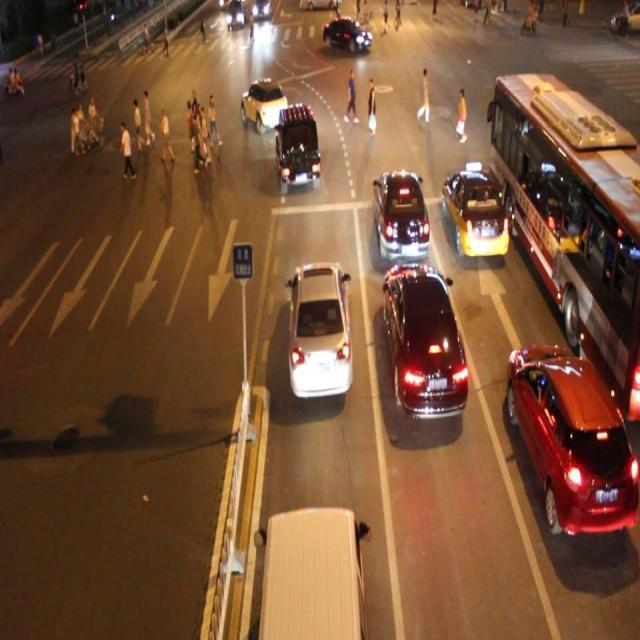car: (505, 341, 640, 531), (380, 262, 467, 415), (289, 260, 352, 395), (441, 170, 508, 260), (372, 167, 429, 264), (276, 104, 320, 192), (240, 78, 287, 134), (322, 15, 371, 55)
truck: (257, 503, 365, 640)
van: (491, 71, 640, 418)
